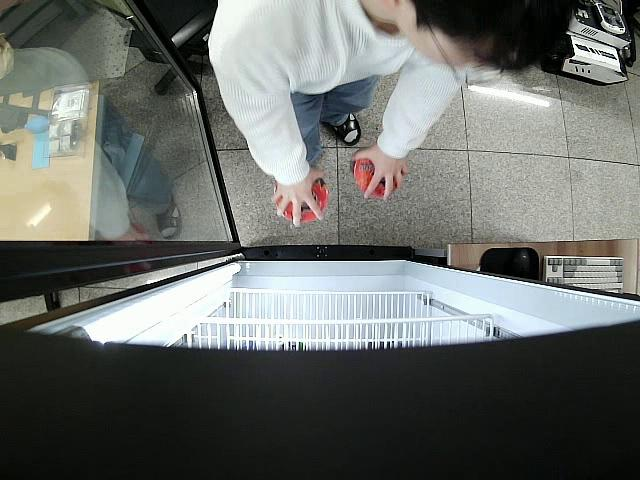00_hand: (270, 167, 326, 225), (350, 146, 409, 201)
01_shinRamen_L: (276, 175, 329, 222), (354, 160, 402, 200)
